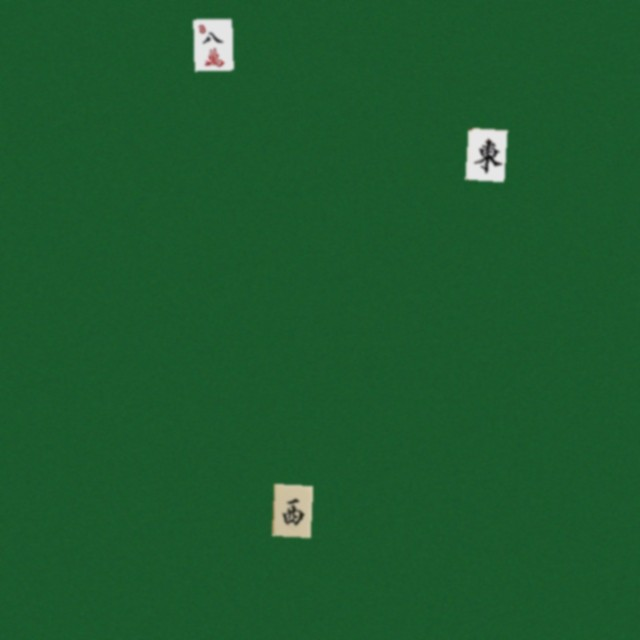tile: (193, 18, 232, 70), (271, 483, 310, 535), (465, 127, 504, 179)
